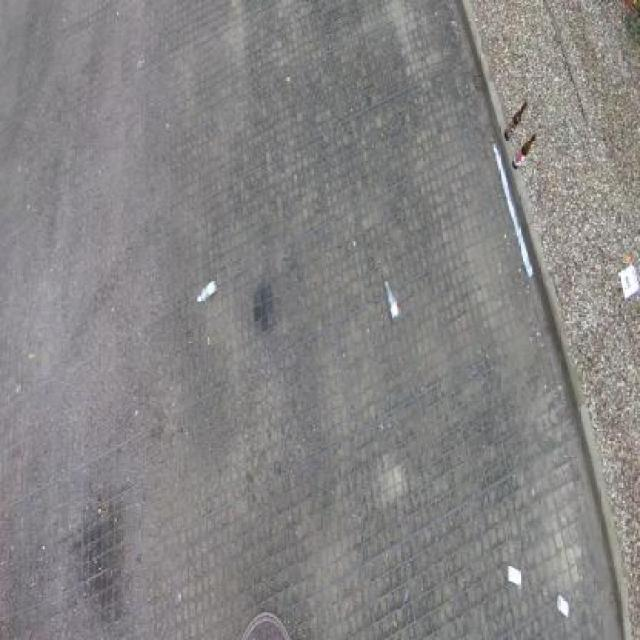Garbage: (493, 145, 533, 278), (504, 103, 527, 140), (513, 133, 536, 170), (383, 279, 400, 324), (619, 265, 639, 300), (196, 280, 219, 303), (556, 595, 569, 617), (508, 565, 520, 587)
